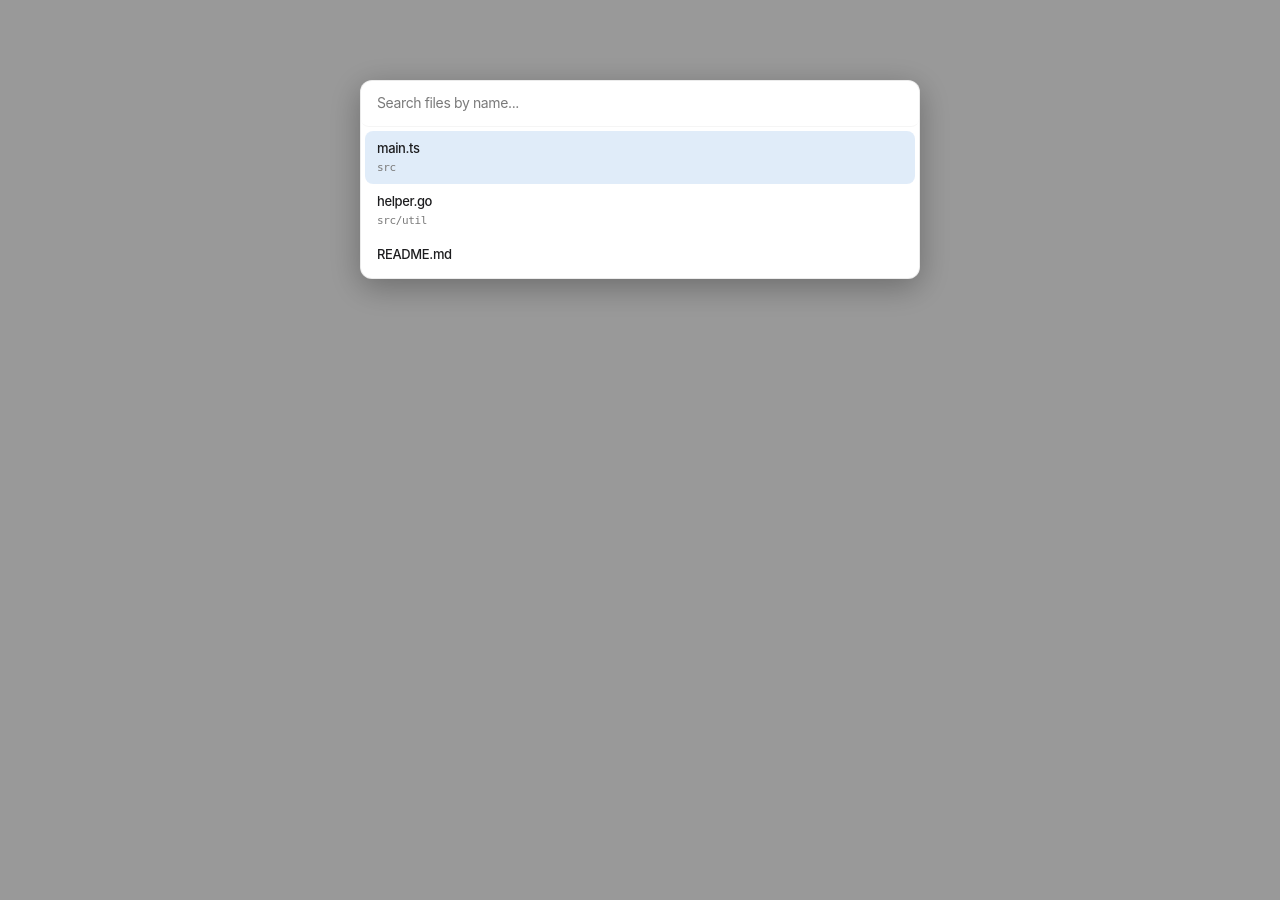
Scenario: QuickOpen (Plan 55) › renders filtered results matching the query
Note: Type a query that matches "main.ts".
Type "main" into the dropdown with placeholder "Search files by name..." at (640,104), box [361,81,919,127]
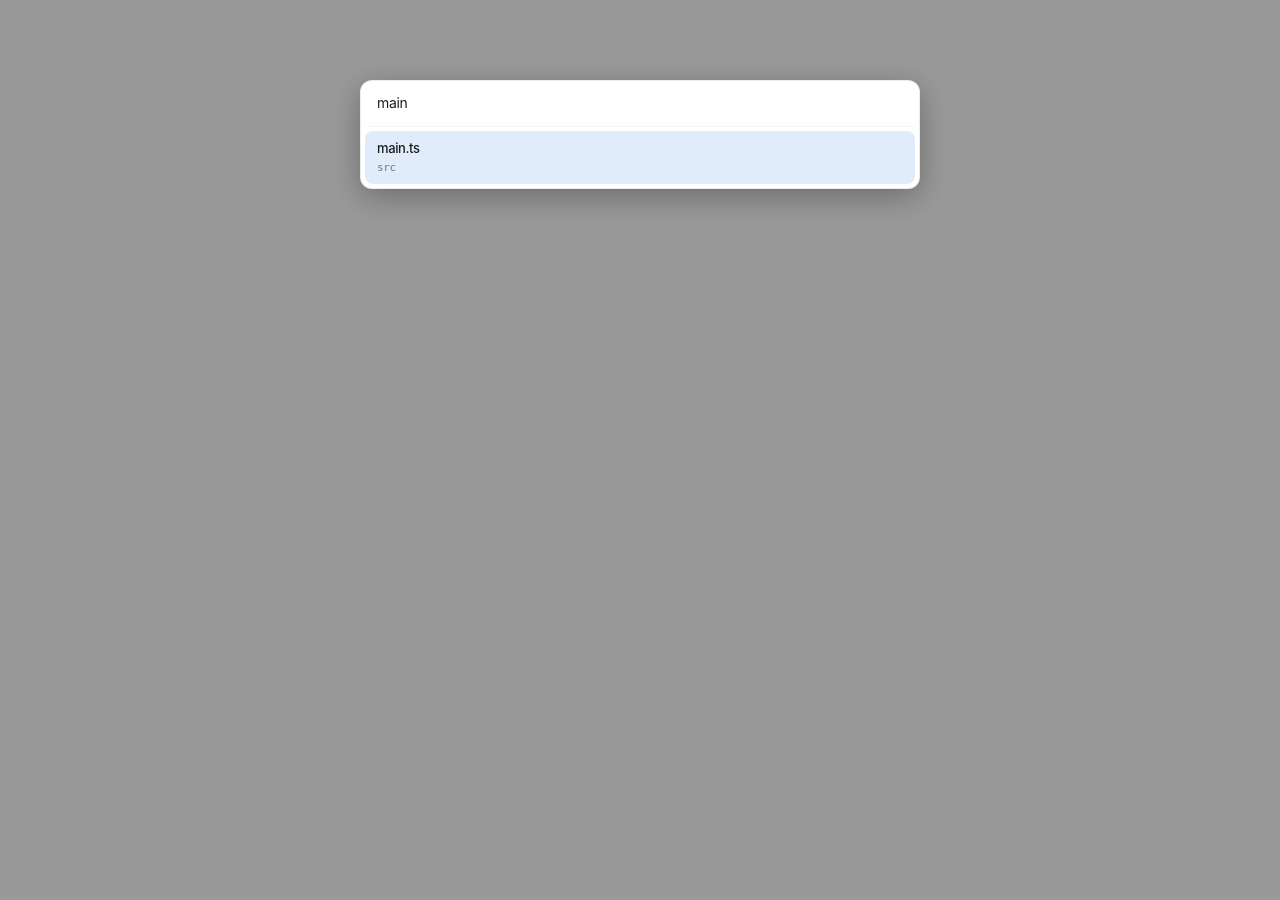
expect the option "main.ts src" is shown: met, box [365,131,915,184]
expect the number of options is 1: met, box [365,131,915,184]
